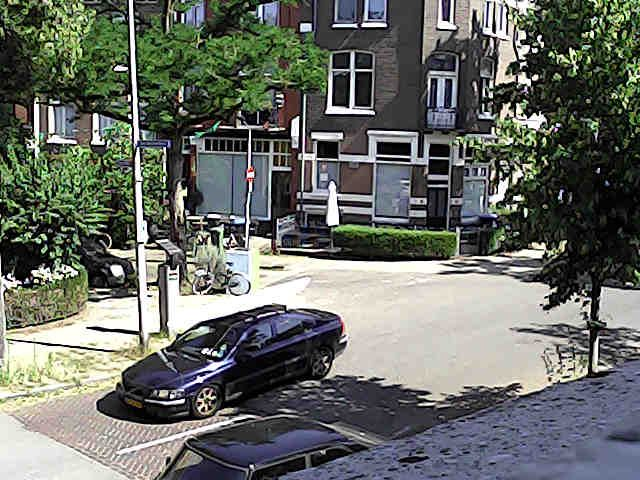suv: (116, 305, 347, 417), (157, 415, 383, 479)
